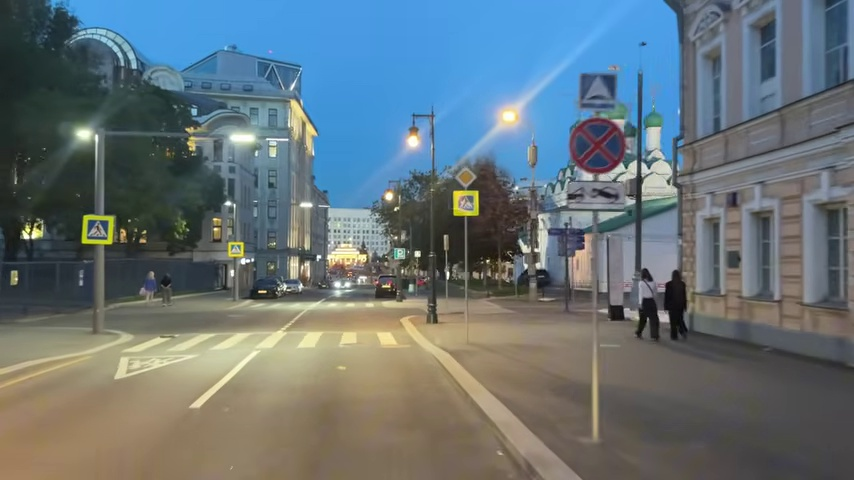acesa: (74, 125, 96, 146), (499, 106, 520, 127), (231, 132, 255, 148), (404, 130, 422, 150), (383, 189, 399, 206)
